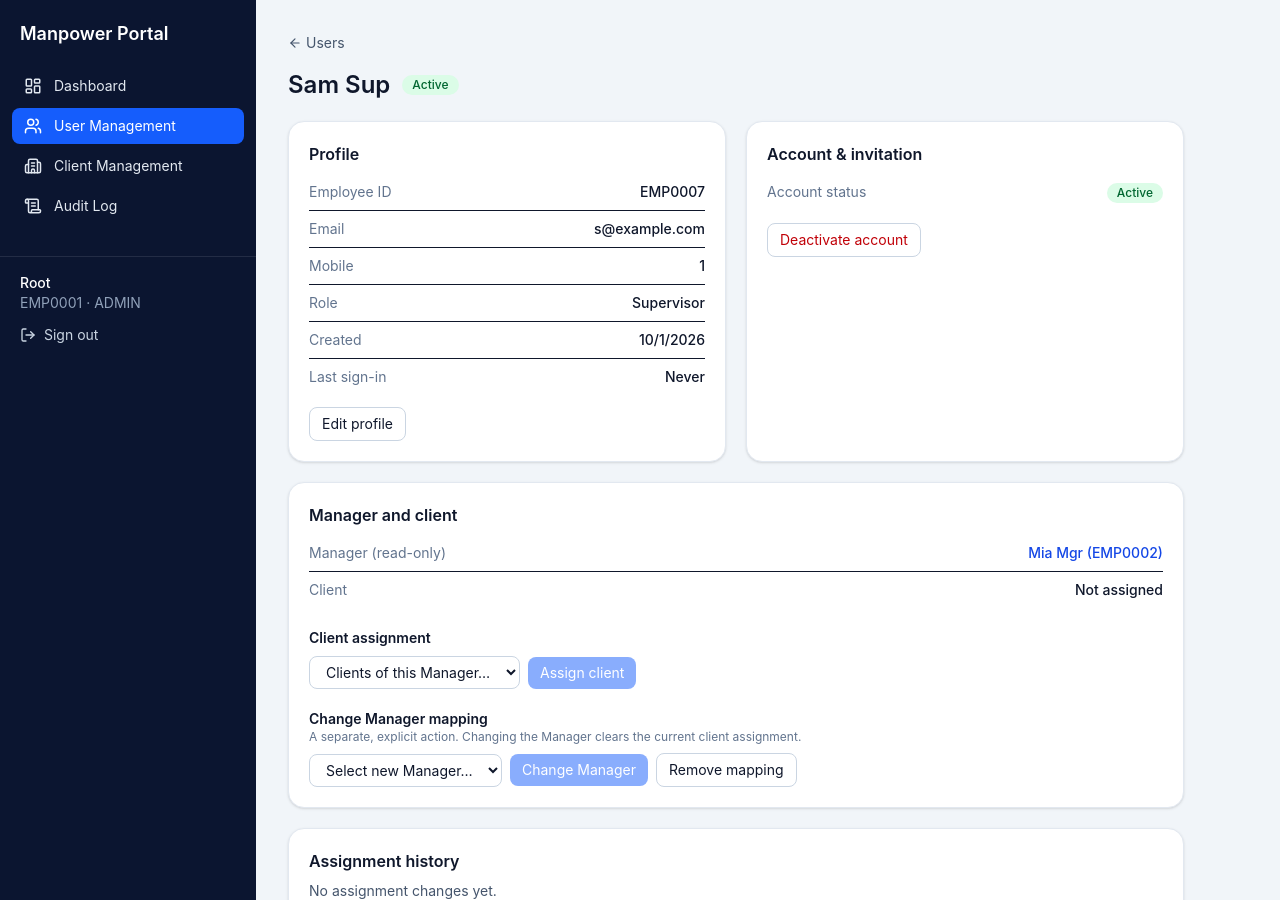
Test: supervisor detail › backend rejection of a client is displayed
Select "Acme Ltd (ACME)" in the 1st dropdown named "Client" at (414, 672), box top-left (309, 656), bottom-right (520, 689)
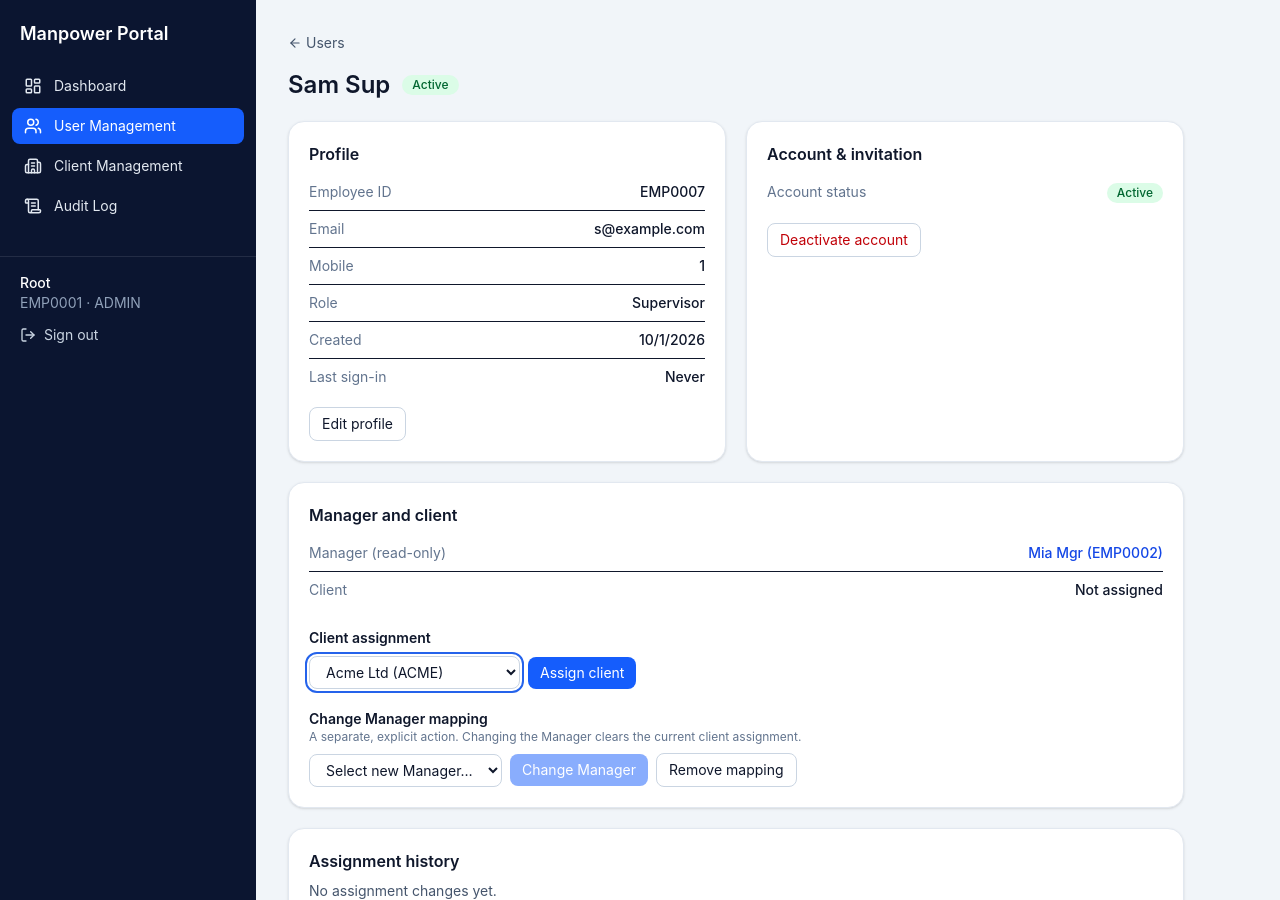
Click the button "Assign client" at (582, 672), box top-left (528, 656), bottom-right (636, 688)
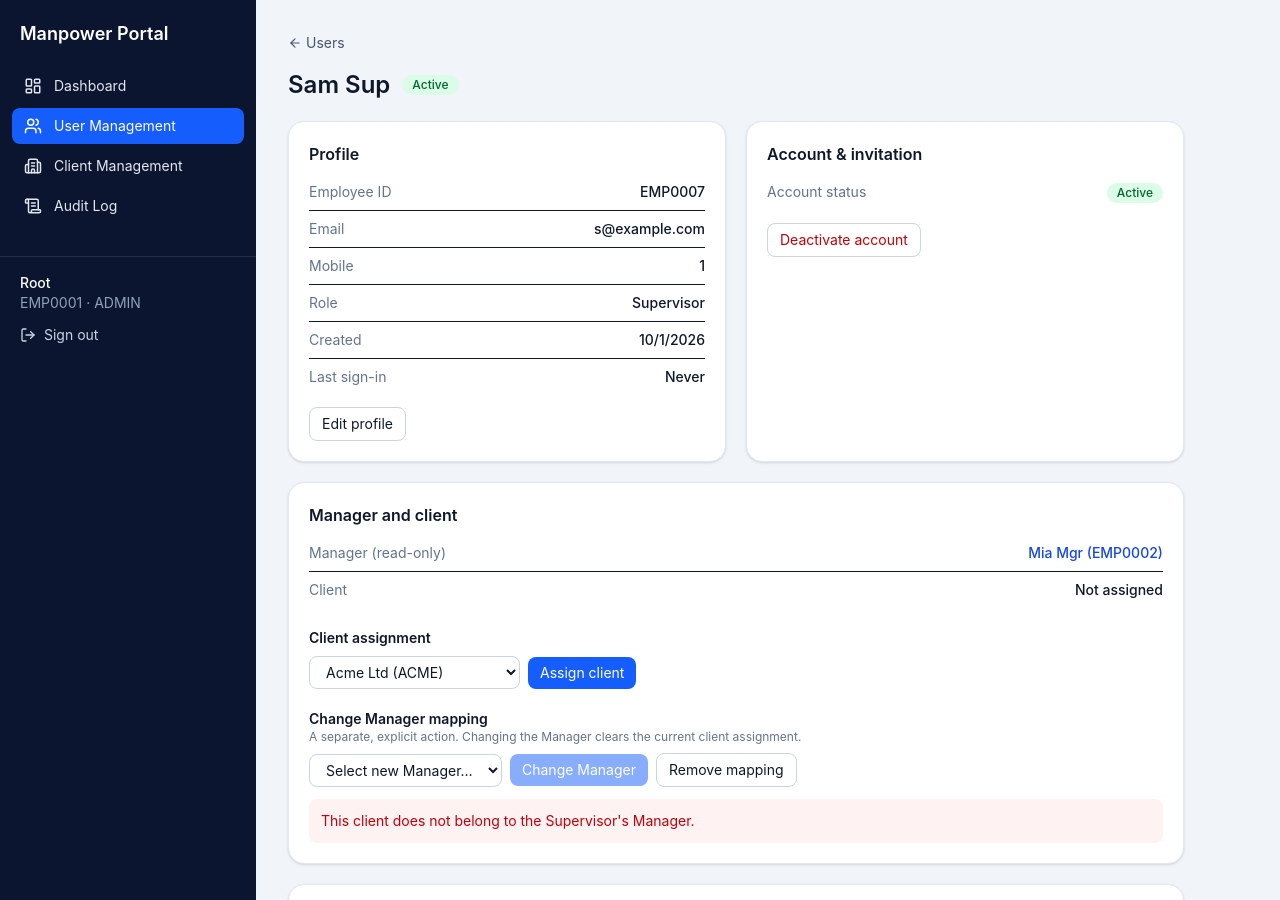
Check: the message shows "does not belong", box top-left (321, 812), bottom-right (695, 829)
